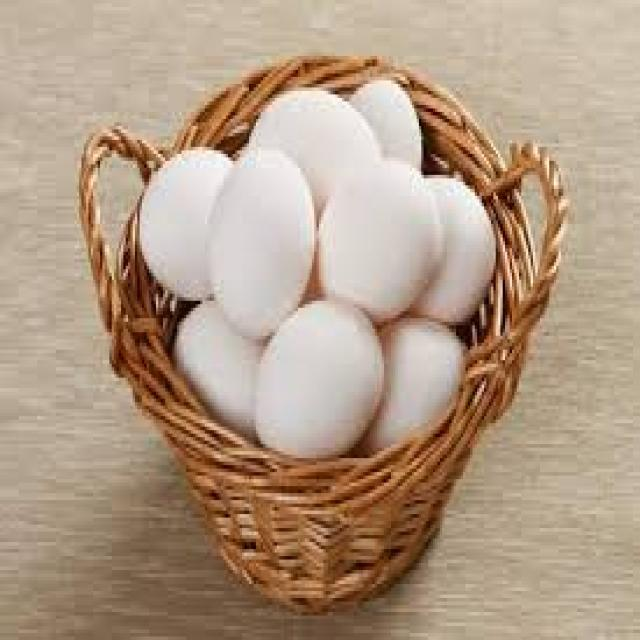White Egg: (237, 276, 389, 448), (194, 128, 303, 329), (316, 160, 440, 312), (268, 102, 394, 205)
